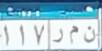1: (18, 21, 27, 45), (4, 23, 10, 45)
7: (32, 20, 46, 46)
ر: (51, 26, 66, 45)
م: (66, 24, 80, 44)
ن: (81, 24, 97, 44)
